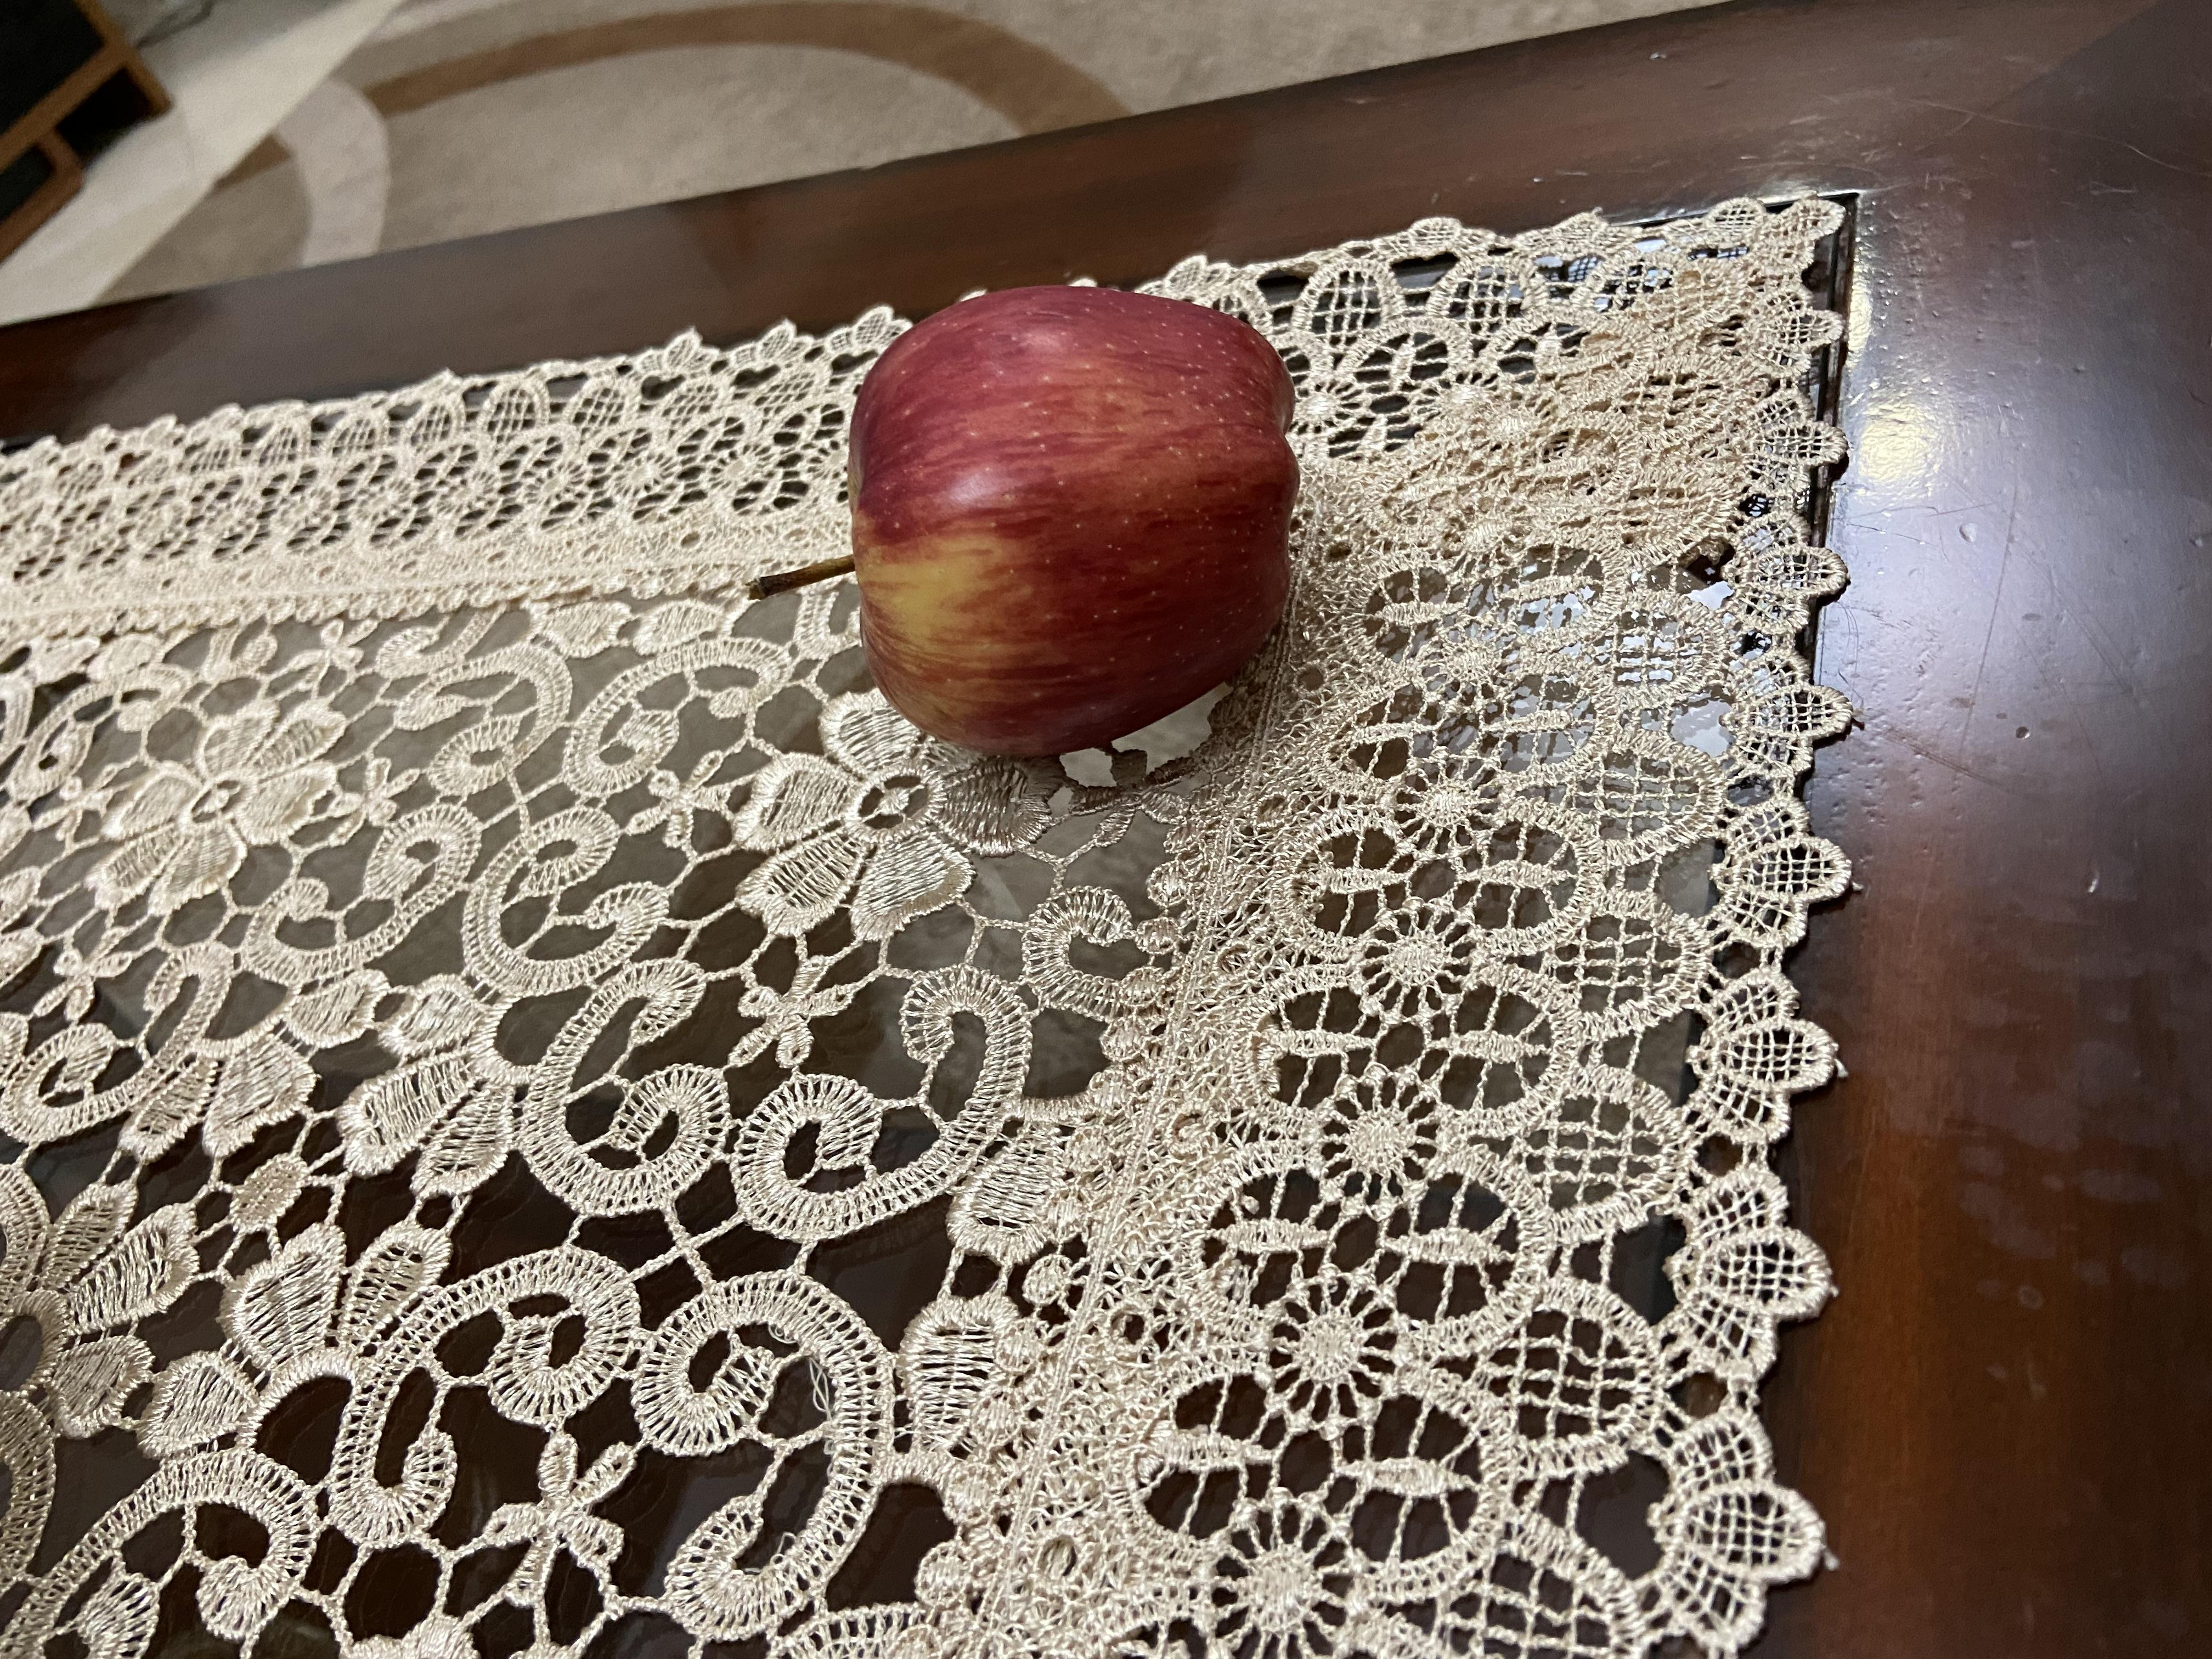Apple: (1195, 538, 1851, 979)
